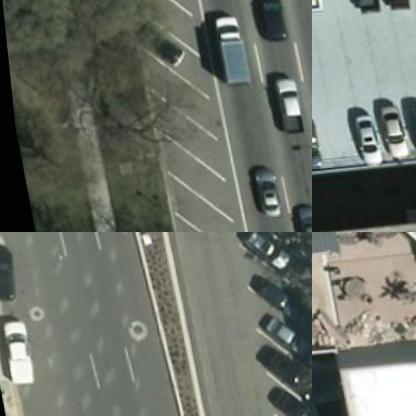car: (240, 268, 305, 327), (249, 304, 311, 365), (253, 343, 311, 404), (209, 12, 252, 86), (229, 232, 294, 277), (127, 18, 180, 72), (0, 316, 36, 384), (367, 99, 405, 156), (333, 104, 370, 162), (265, 74, 299, 134), (256, 378, 311, 415), (242, 0, 284, 41), (240, 169, 274, 218), (392, 95, 415, 153), (0, 237, 18, 300), (286, 203, 311, 231)
